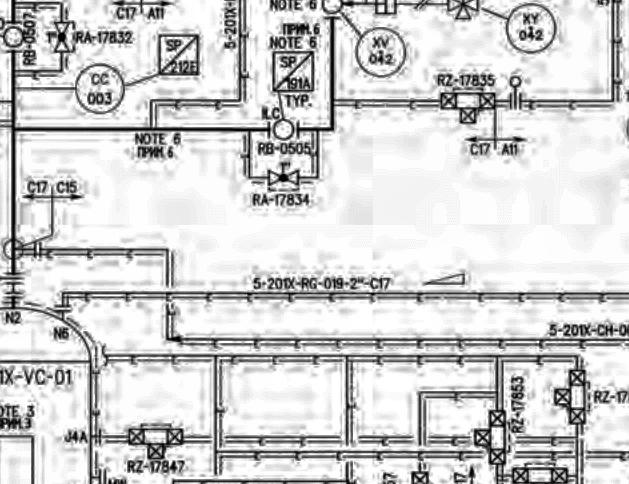2 WAY VALVE: (432, 84, 500, 127), (125, 422, 187, 462), (552, 365, 590, 430), (476, 408, 510, 467)
BLIND SPADE OPEN: (503, 72, 525, 112)
END FLANGED: (52, 301, 73, 315), (31, 238, 43, 259)
FIELD INSTRUMENT: (72, 61, 131, 115), (502, 3, 560, 56), (352, 26, 413, 76), (270, 114, 297, 145), (2, 24, 25, 52), (3, 236, 26, 263)
GLOBE VALVE: (266, 163, 304, 190), (50, 16, 75, 57)
SPECIAL PIPING ITEM: (266, 42, 319, 98), (154, 28, 203, 79)
